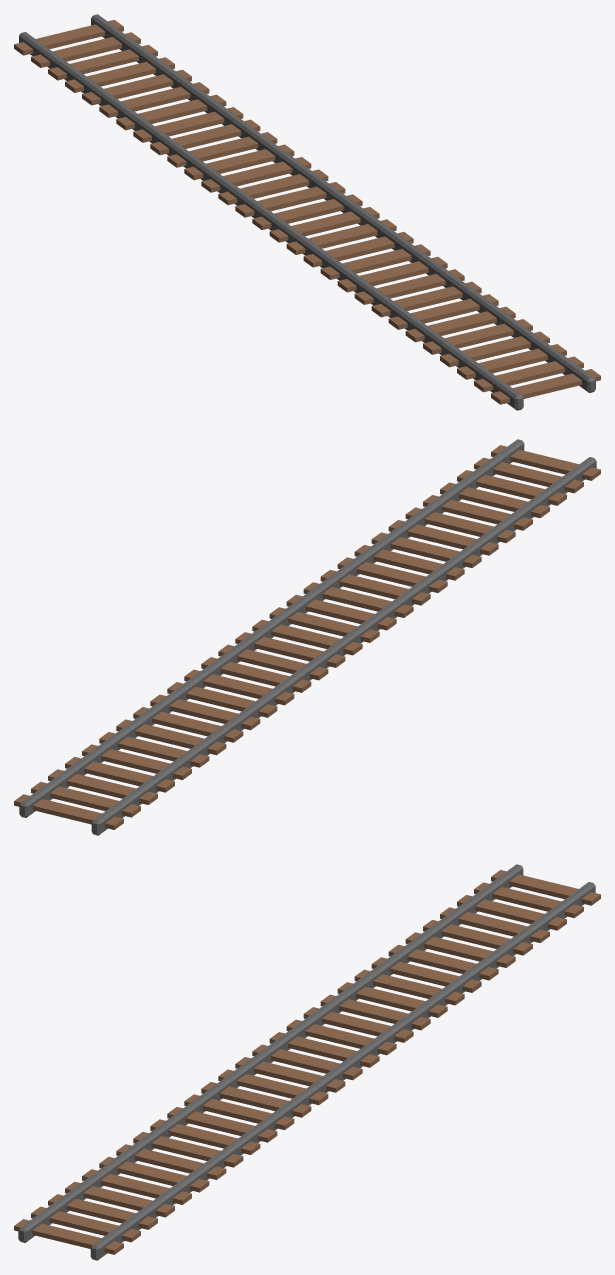
Rendered from Rails.glb.
3 renders of one model, top to bottom at view 1: azimuth 30°, elevation 25°; view 2: azimuth 150°, elevation 25°; view 3: azimuth 330°, elevation 25°, orthographic.
Parts seen in each view (by area): view 1: Cube, Cube.024; view 2: Cube, Cube.024; view 3: Cube, Cube.024.
Boxes of the visible parts, <box> form: Cube: <box>14,20,600,404</box>; Cube.024: <box>19,14,595,410</box>; Cube: <box>14,445,600,829</box>; Cube.024: <box>19,439,596,835</box>; Cube: <box>14,870,600,1254</box>; Cube.024: <box>18,864,595,1260</box>.
Size of the model in its own units: 3.11 by 0.4379 by 26.69.
